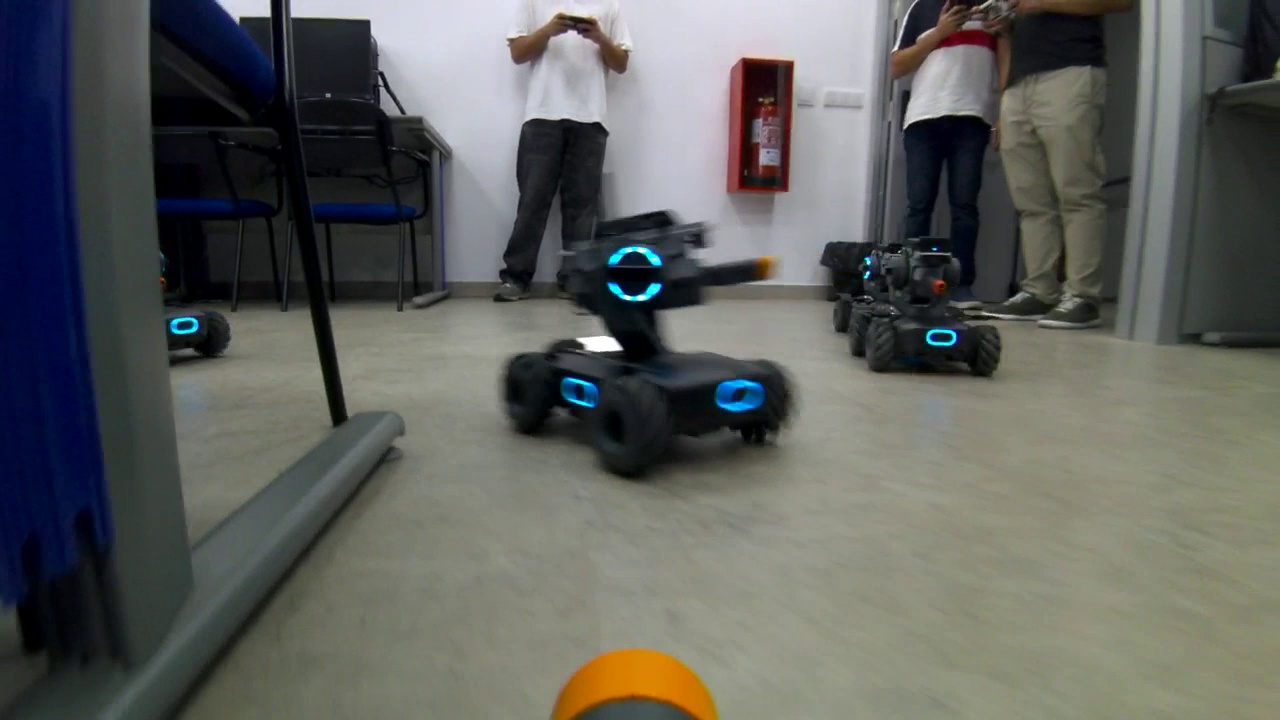robot: (496, 209, 797, 488), (828, 225, 1009, 383)
